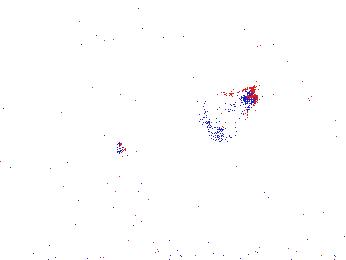flame jellyfish: (270, 173, 346, 228), (197, 86, 257, 143), (96, 140, 141, 206)
